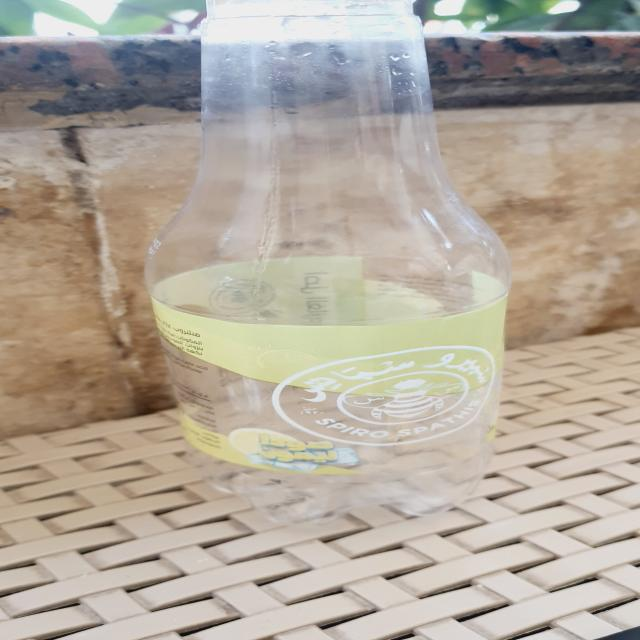plastic: (143, 1, 514, 525)
